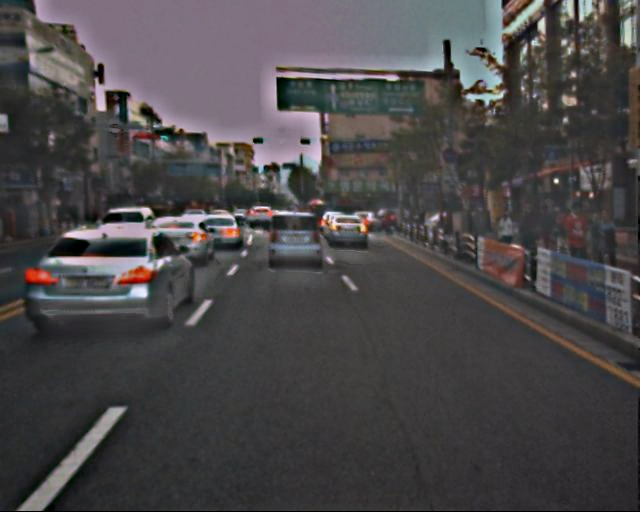person: (591, 208, 621, 280), (564, 205, 593, 275), (518, 204, 543, 266), (494, 205, 517, 262)
